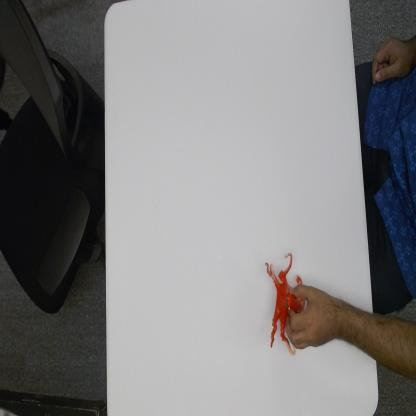Hand: (285, 281, 341, 351)
Octopus: (264, 250, 306, 358)
